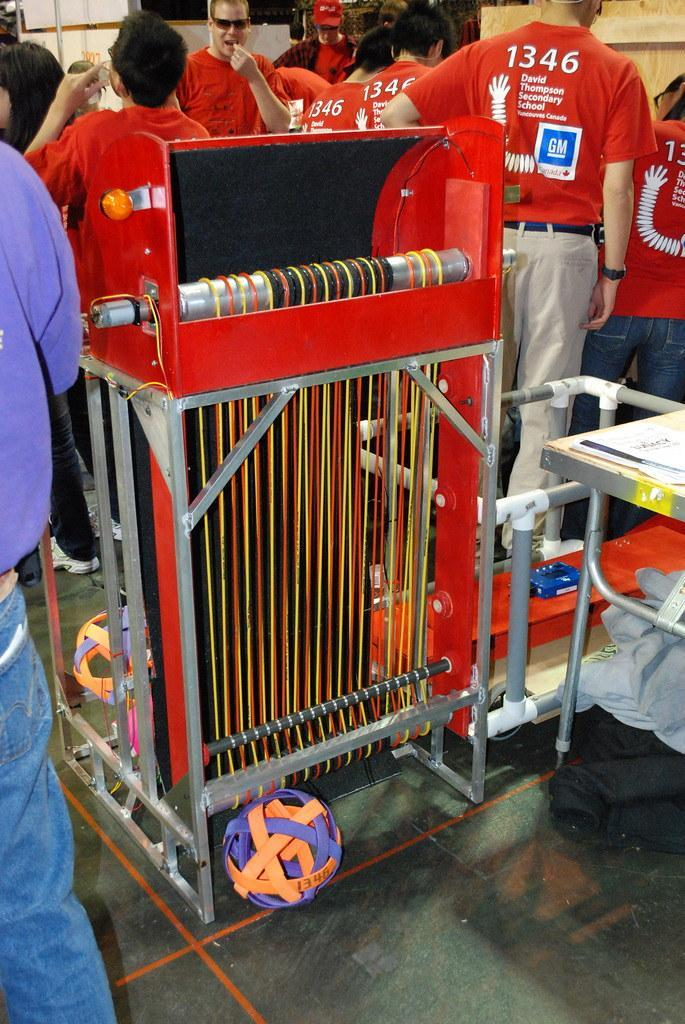robot: (42, 112, 518, 936)
